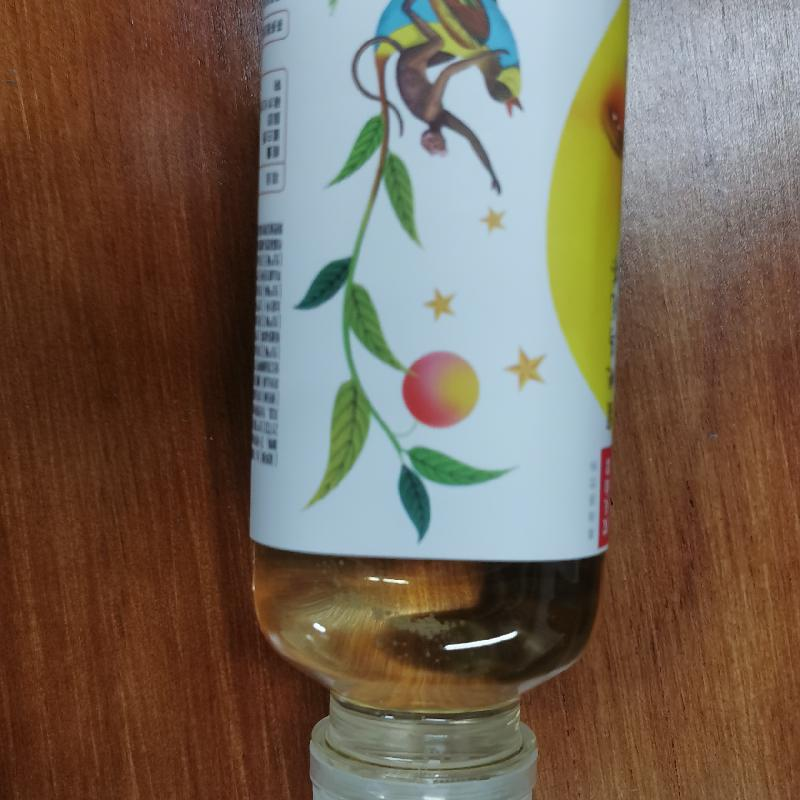bottles: (236, 7, 622, 799)
